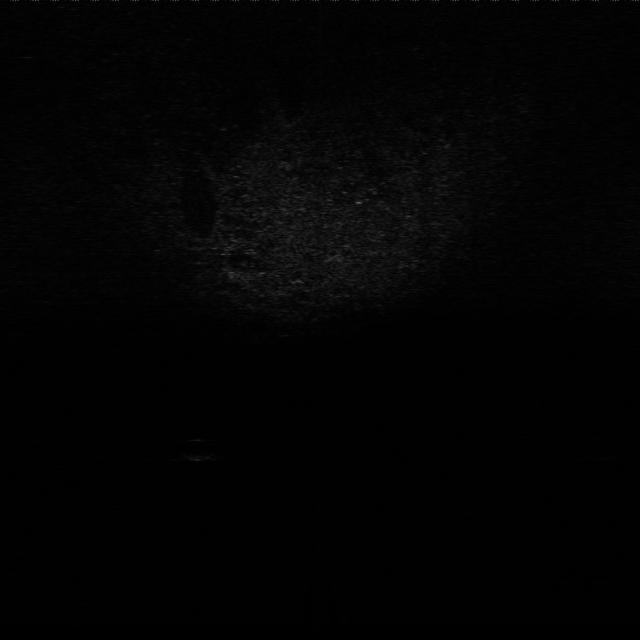ball: (181, 436, 218, 464)
